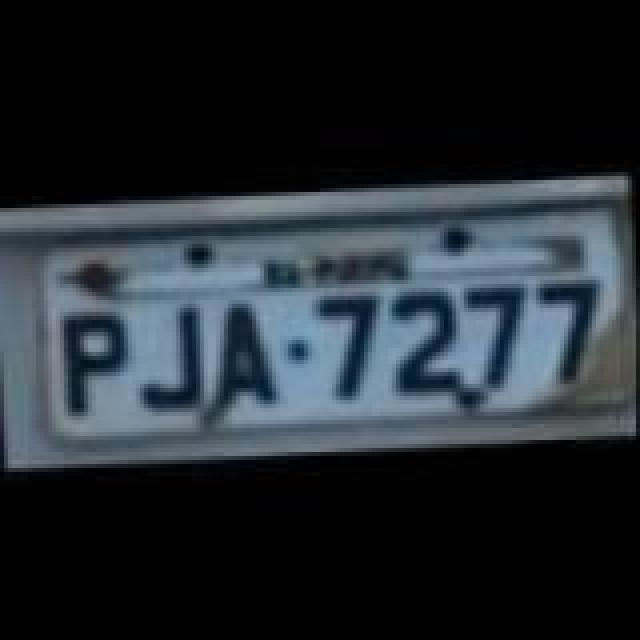2: (392, 286, 468, 394)
7: (534, 274, 614, 386), (456, 282, 532, 386), (316, 294, 384, 402)
A: (204, 298, 288, 414)
J: (134, 298, 214, 414)
P: (56, 308, 132, 416)
